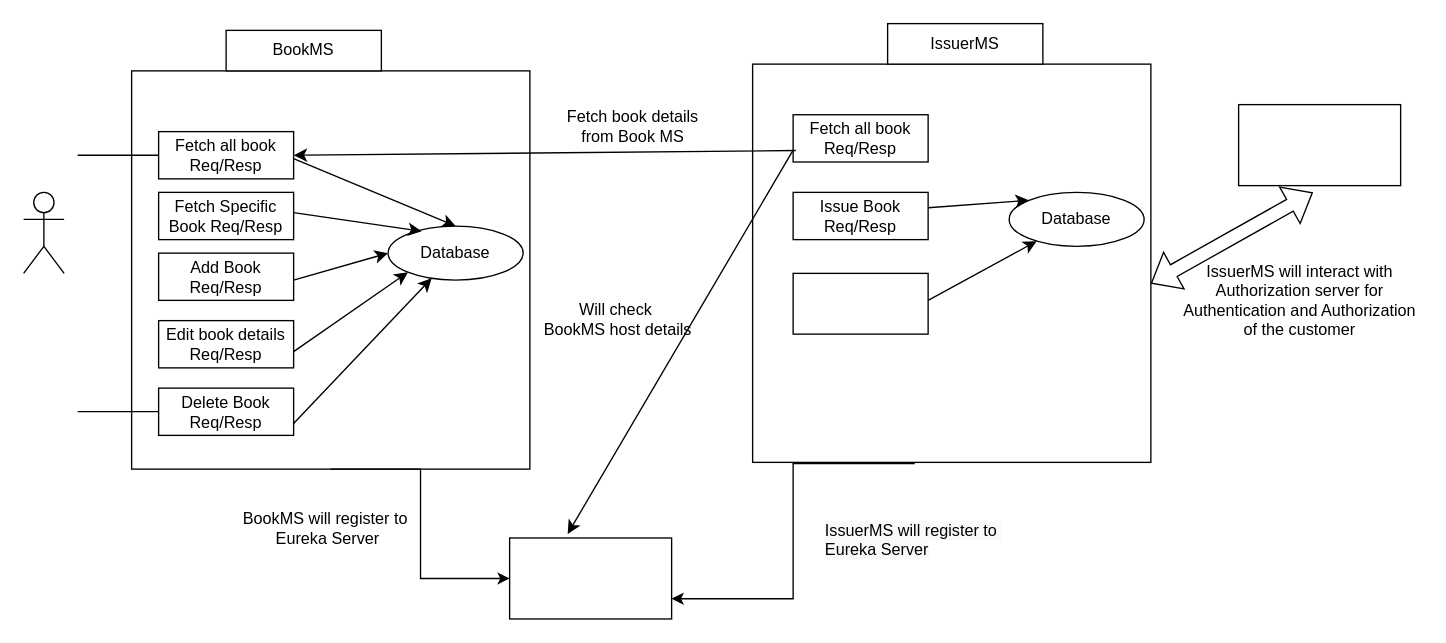
Some shapes in this 1446 by 643 pixel diagram are drawn without their labels. The box of each missing label's shape, as (x1, y1, x2, y2) in pixels:
Actor: (22, 191, 64, 273)
Authorization Server: (1237, 103, 1401, 186)
Fetch Book Issued details Req/Resp: (792, 272, 928, 334)
Service Registry: (508, 537, 672, 619)
